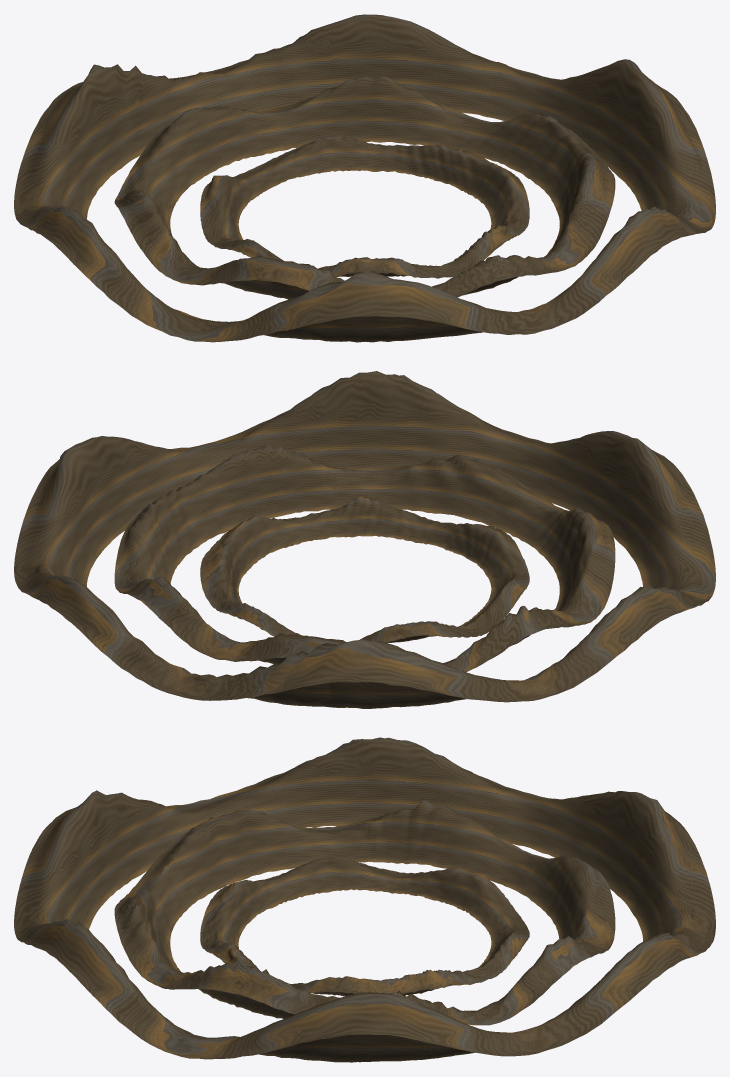
Rendered from mountain-terrain.glb.
The picture shows the model from 3 angles, top to bottom: view 1: azimuth 30°, elevation 25°; view 2: azimuth 150°, elevation 25°; view 3: azimuth 270°, elevation 25°; orthographic projection.
Visible parts, largest first — view 1: mountain_terrain_far, mountain_terrain_mid, mountain_terrain_near; view 2: mountain_terrain_far, mountain_terrain_mid, mountain_terrain_near; view 3: mountain_terrain_far, mountain_terrain_mid, mountain_terrain_near.
Boxes of the visible parts, x1,y1,x2,y2 form: mountain_terrain_far: (14,14,715,342); mountain_terrain_mid: (114,76,615,299); mountain_terrain_near: (200,136,529,278); mountain_terrain_far: (14,371,715,708); mountain_terrain_mid: (114,444,615,672); mountain_terrain_near: (200,495,529,643); mountain_terrain_far: (14,737,715,1062); mountain_terrain_mid: (114,799,615,1025); mountain_terrain_near: (200,857,529,996).
Bounding box in the file's own units: 1640 × 225 × 1640.
1 material, 1 textured.
